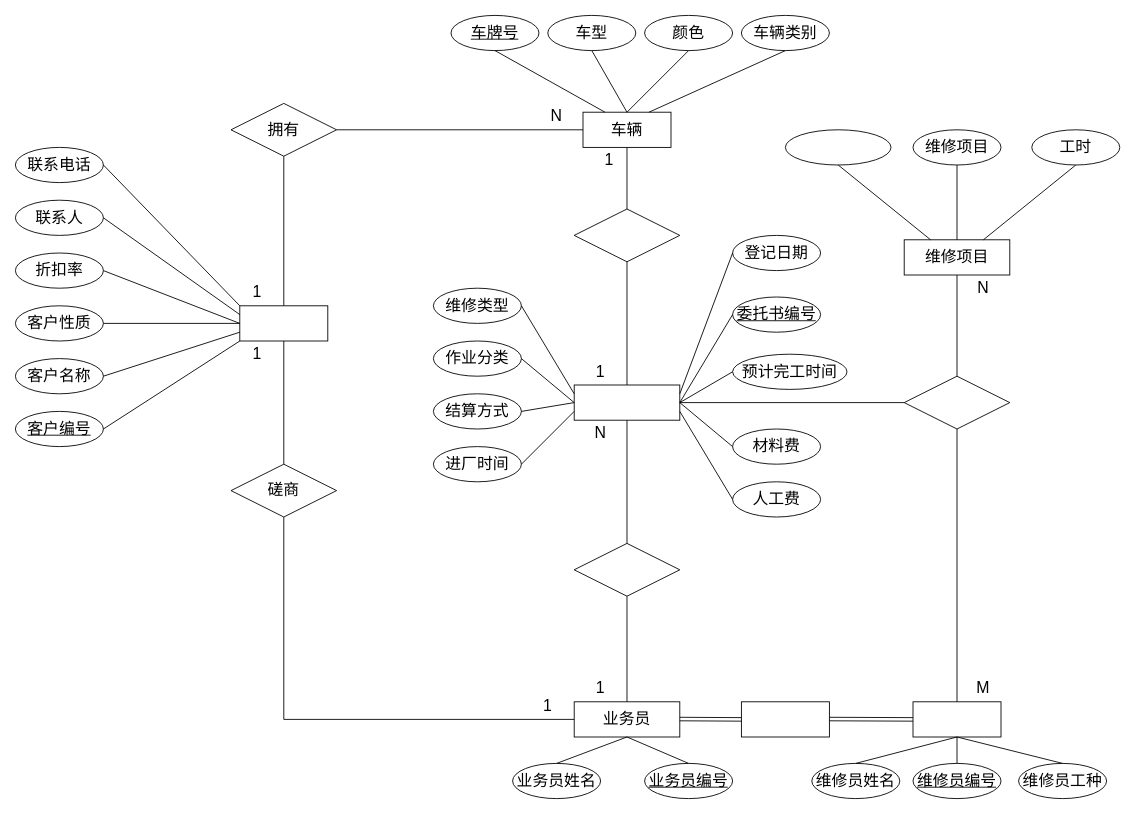
Some shapes in this 1135 by 814 pixel diagram are drawn without their labels. The centre of each missing label's shape, as x and y in pixels:
员工: [785,719]
客户: [283,323]
故障: [626,235]
生成: [626,569]
维修委托书: [626,402]
维修工: [956,719]
维修派工单: [956,402]
维修项目编号: [838,147]
